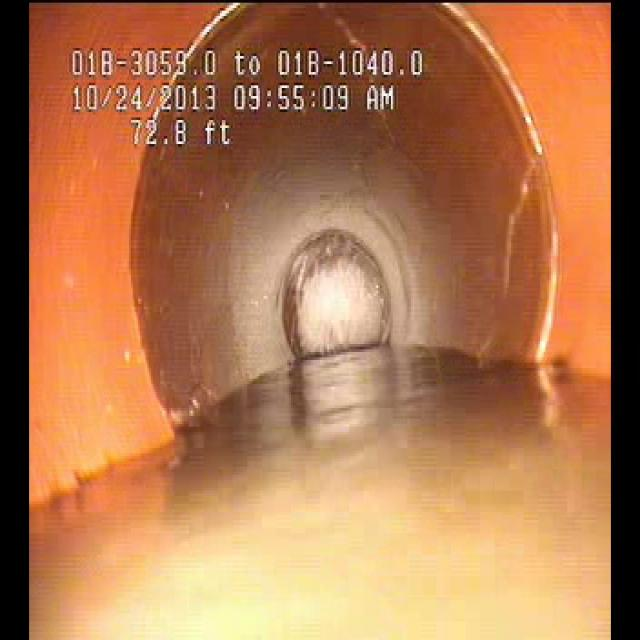Crack: (464, 136, 550, 368)
